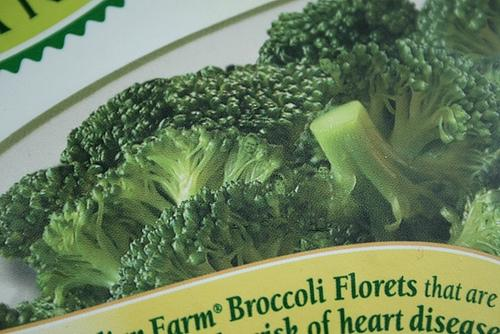broccoli: (62, 62, 336, 226), (310, 101, 500, 243), (106, 177, 298, 302), (255, 0, 420, 141), (387, 36, 500, 163), (27, 188, 142, 306), (0, 162, 102, 260), (409, 0, 500, 81), (0, 284, 111, 330), (440, 186, 499, 257)
